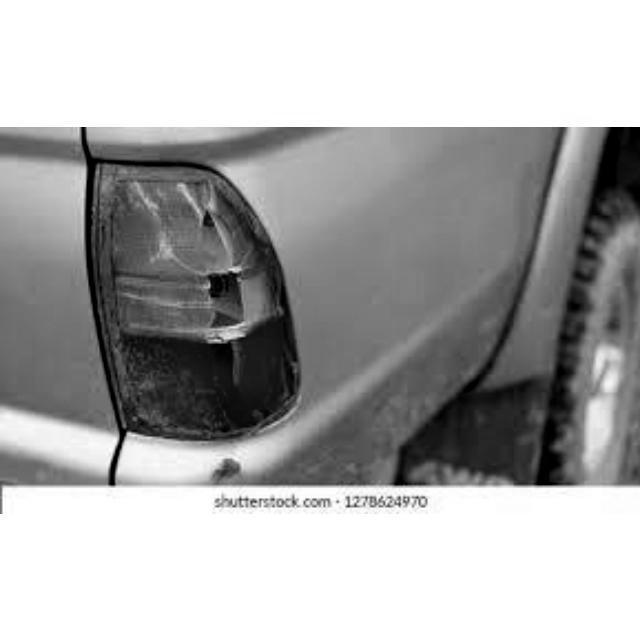Taillight-Damage: (133, 169, 279, 448)
